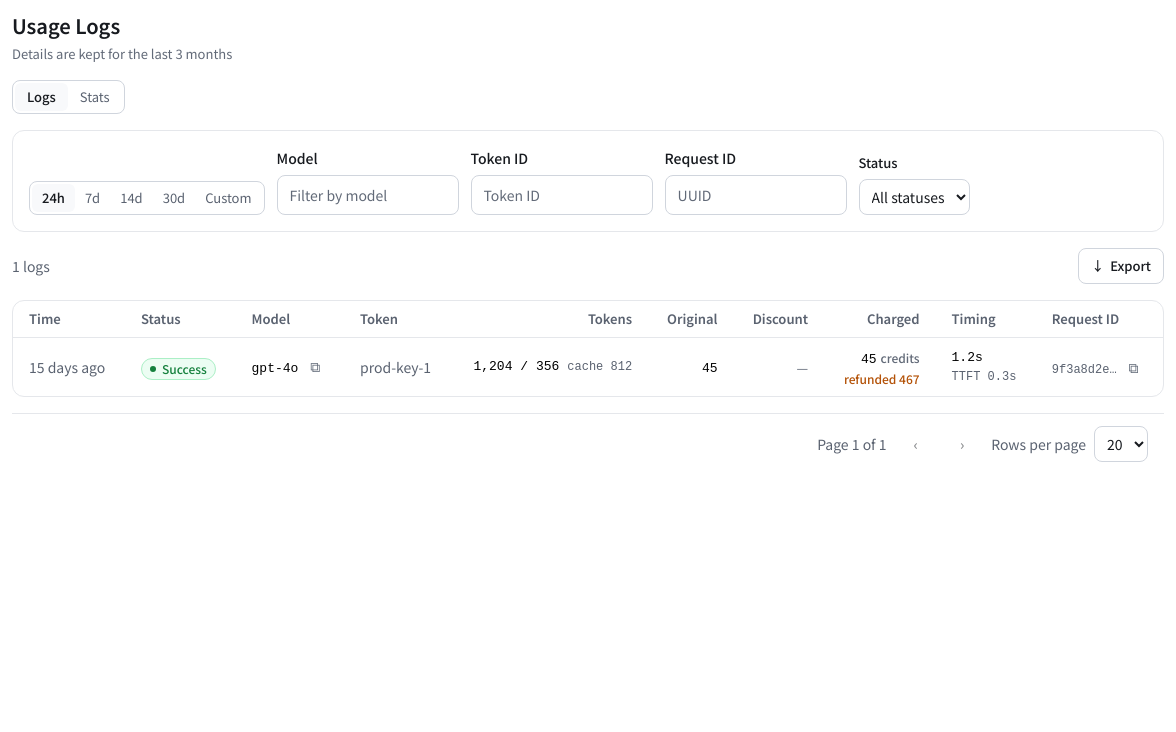
Test: usage logs list › rejects a custom range longer than 90 days without querying it
The width and height of the screenshot is (1176, 732).
Expected: the text "gpt-4o" is shown, [252,361,298,376]
Expected: the text "Details are kept for the last 3 months" is shown, [12,44,232,64]
Step 1. Click the radio button labelled "Custom" → (228, 198), box [195,184,262,212]
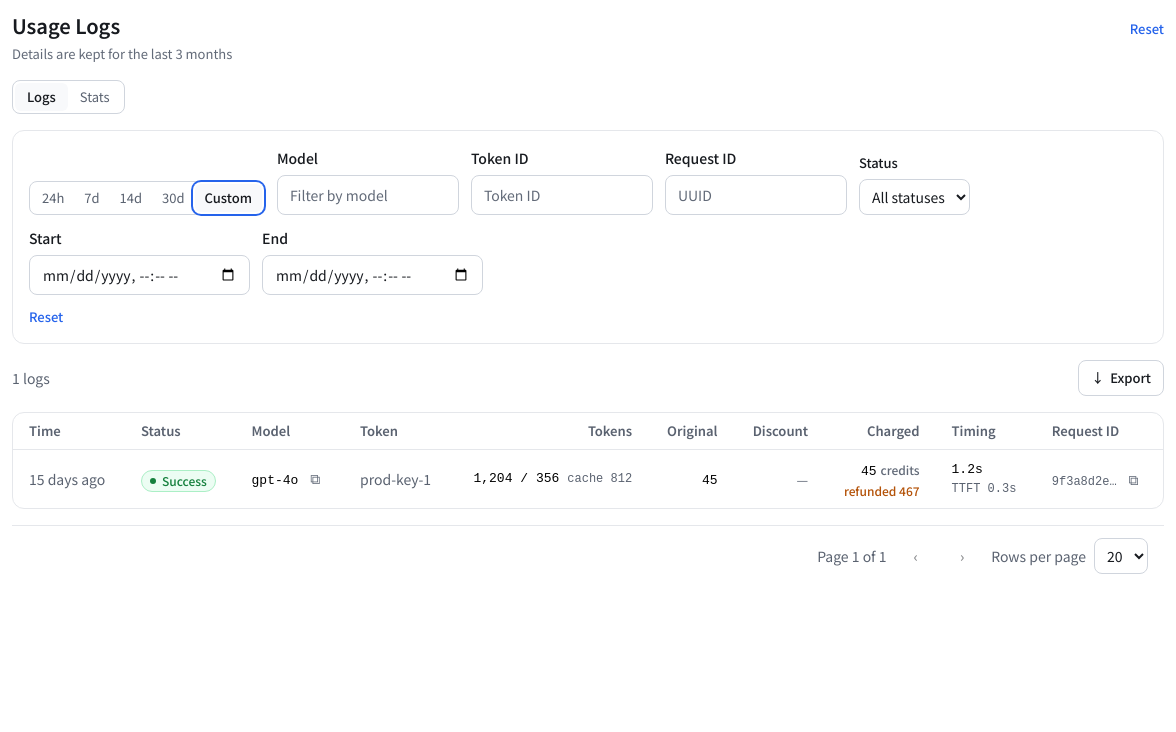
Step 2. Type "2026-01-01T00:00" into the field labelled "Start" → (140, 275), box [29,255,250,295]
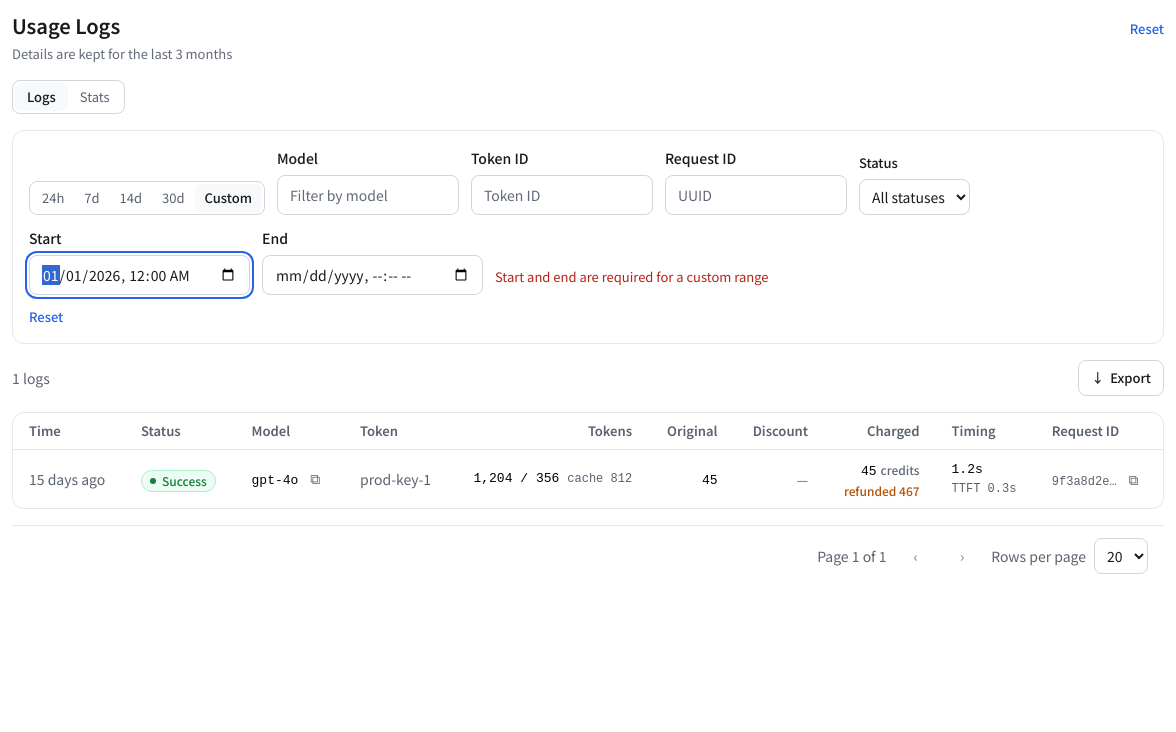
Step 3. Type "2026-04-02T00:00" into the field labelled "End" → (372, 275), box [262,255,483,295]
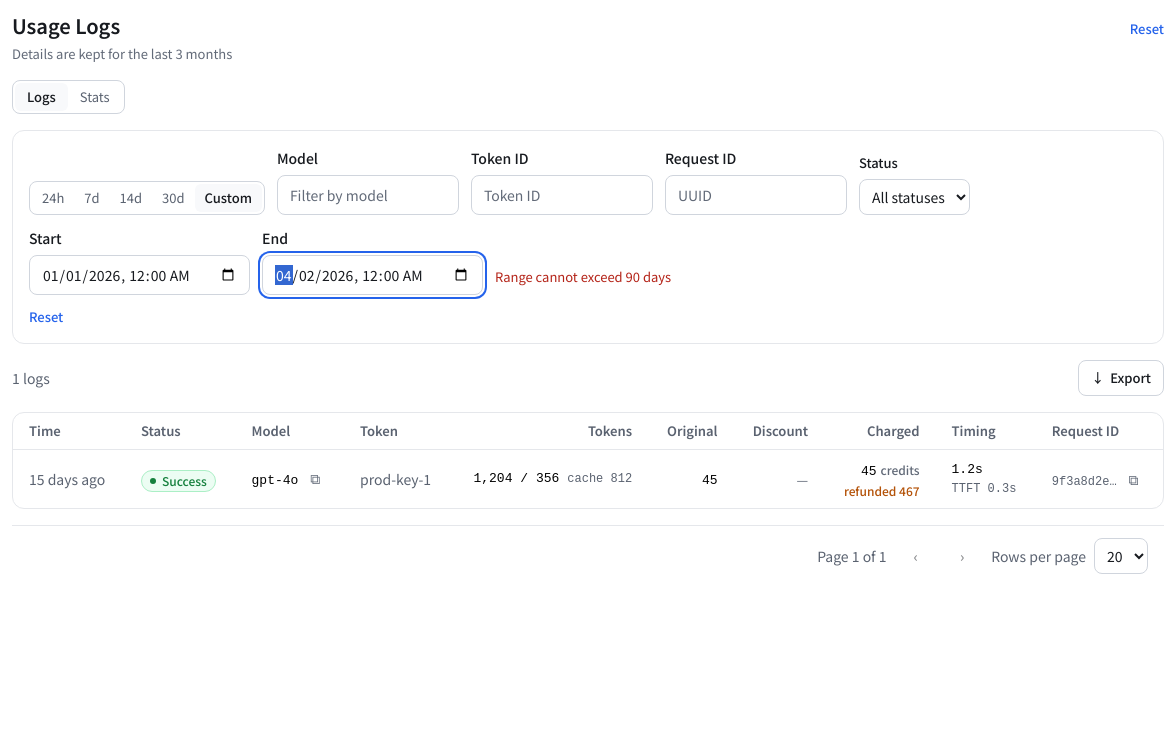
Expected: the text "Range cannot exceed 90 days" is shown, [495,267,671,295]
